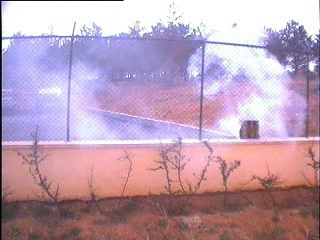smoke: (183, 22, 310, 139)
